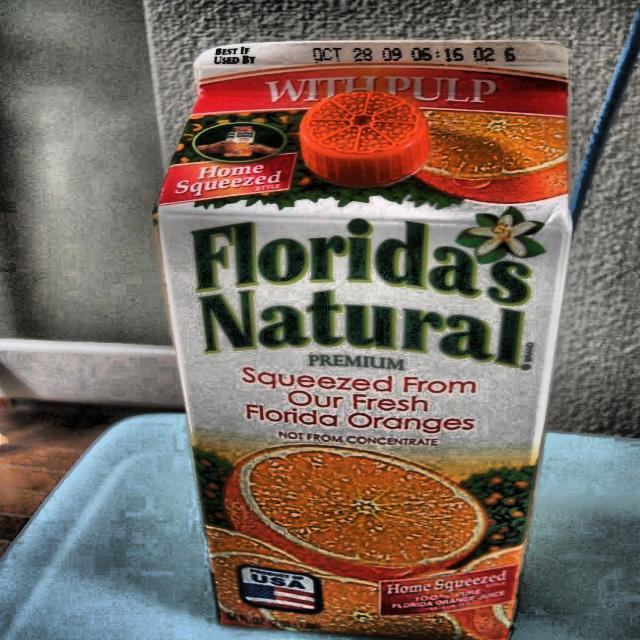cardboard: (150, 38, 576, 638)
